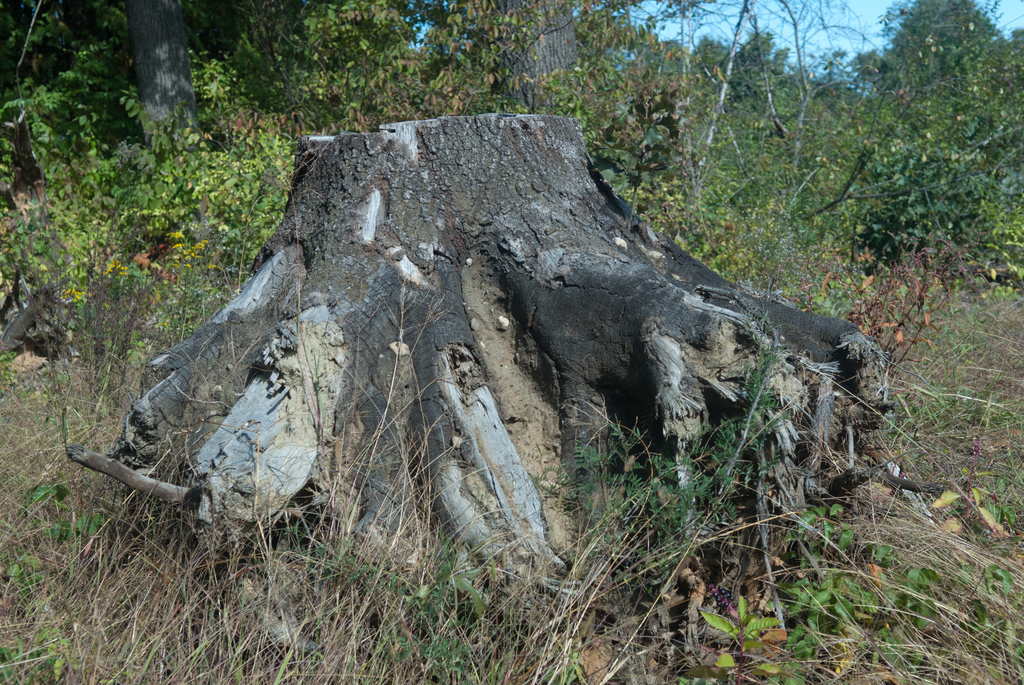Tree: (0, 0, 1023, 291)
